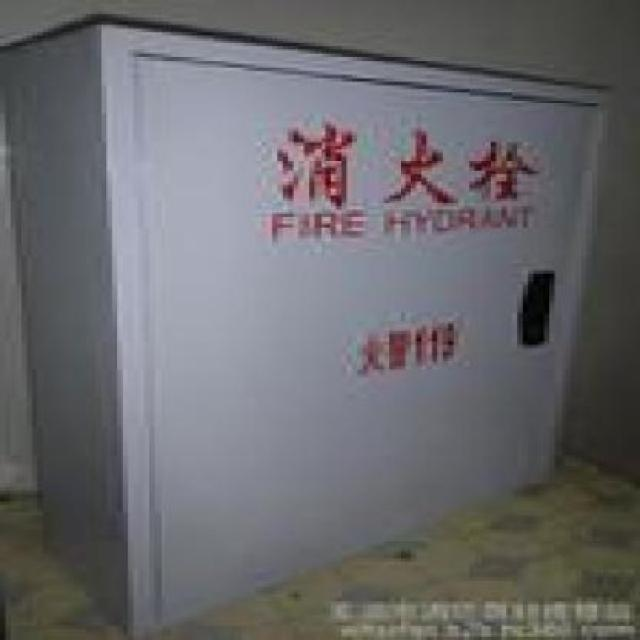firehydrant: (1, 4, 626, 640)
